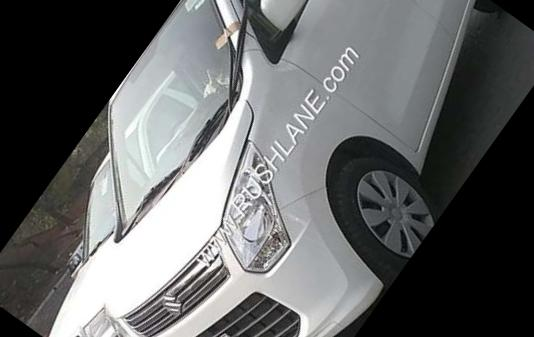plate: (162, 311, 257, 337)
